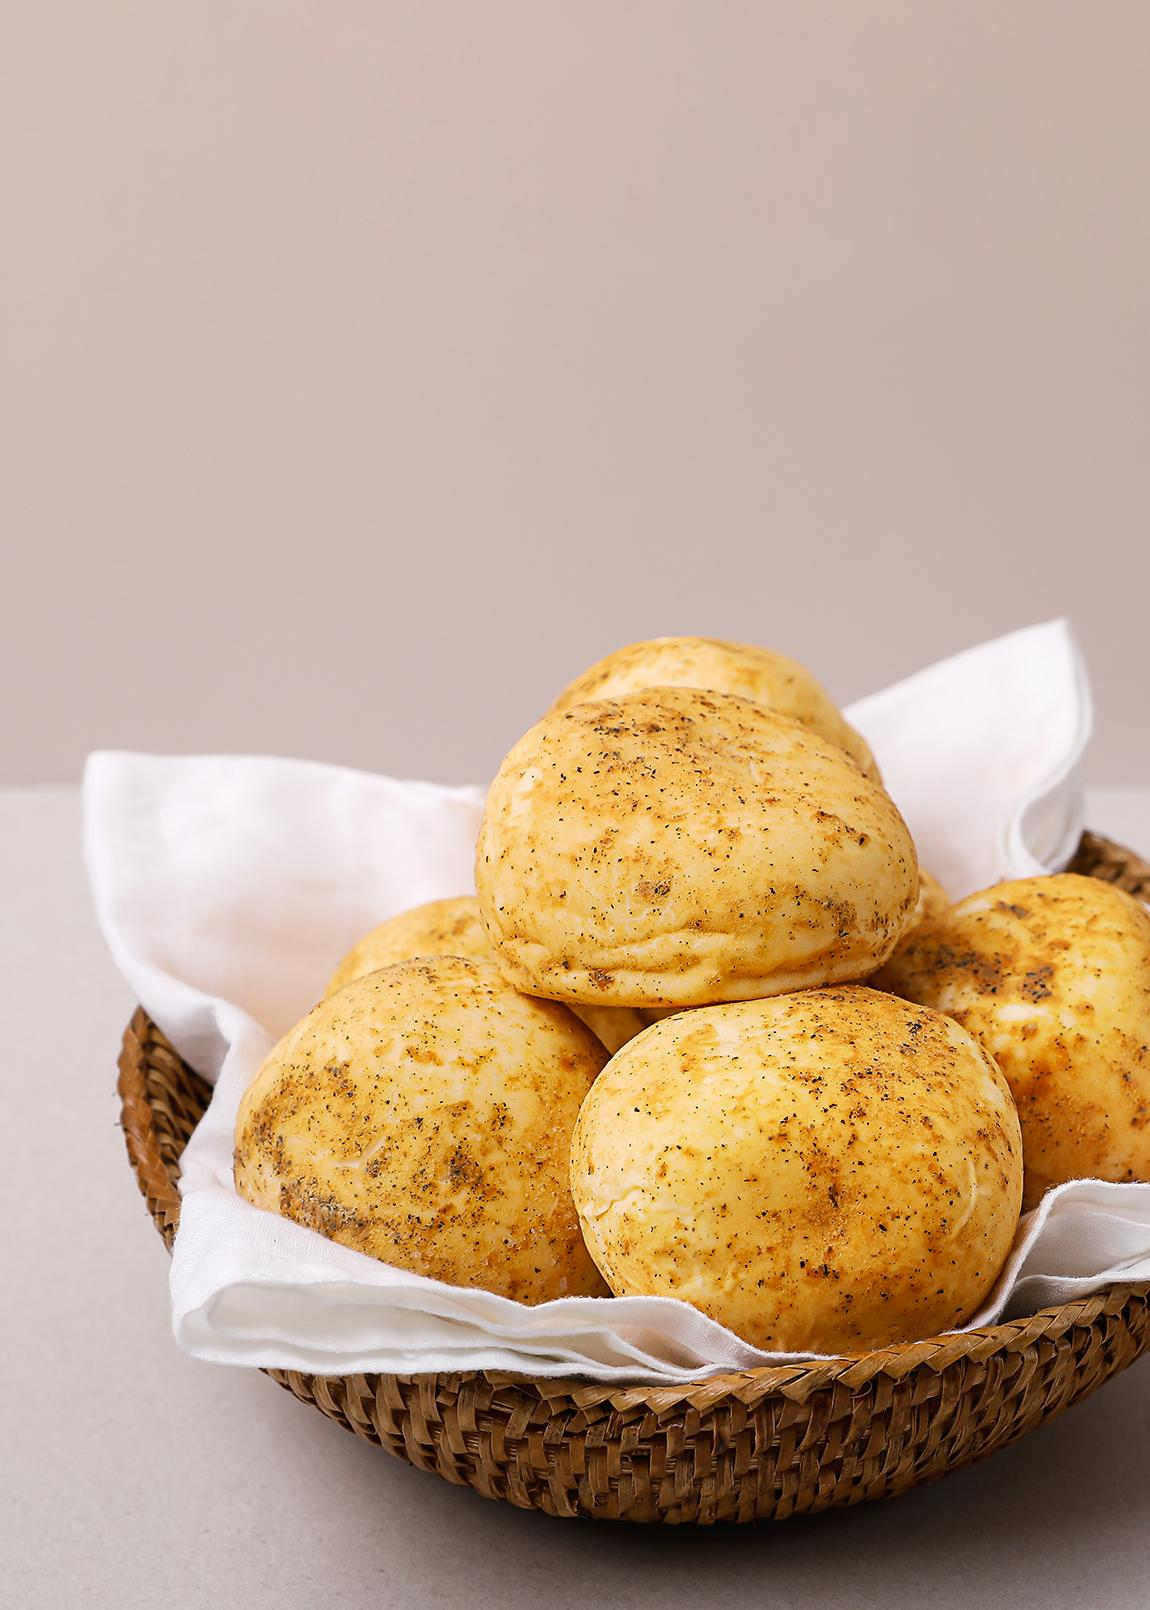potato: (750, 1157, 1150, 1610), (757, 1193, 1150, 1610)
